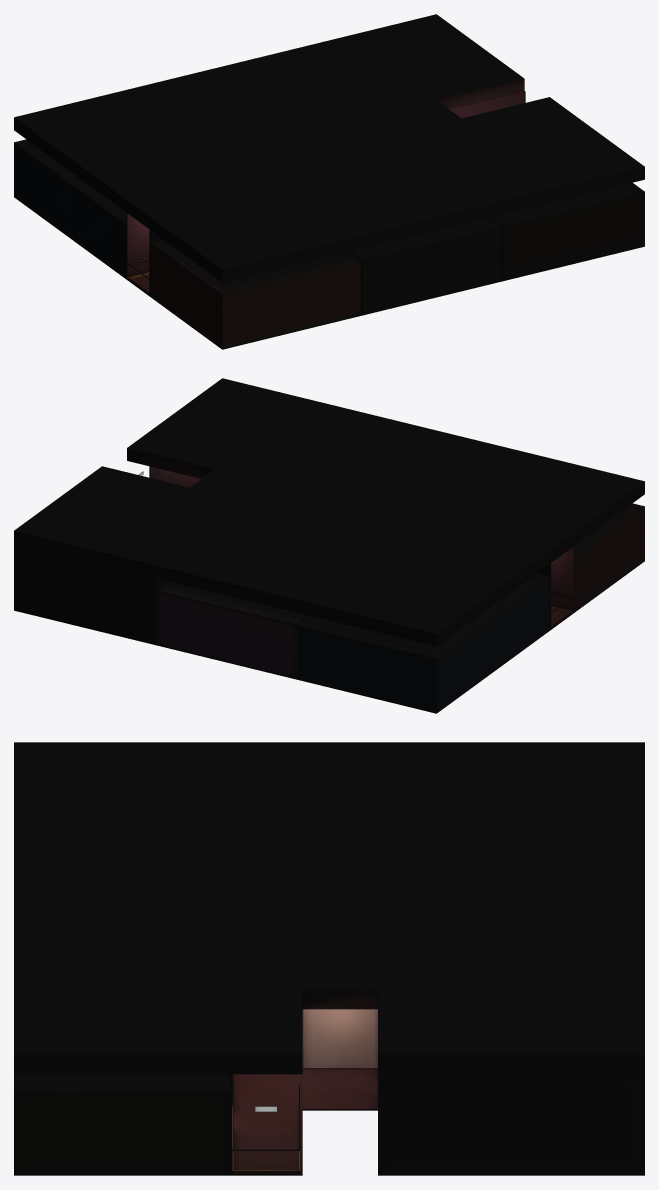
File: rouge_xl_f3.glb
3 renders of one model, top to bottom at view 1: azimuth 30°, elevation 25°; view 2: azimuth 150°, elevation 25°; view 3: azimuth 270°, elevation 25°, orthographic. The views are drawn at different scales.
Visible parts, largest first — view 1: office_kopo201; view 2: office_kopo201; view 3: office_kopo201.
Part boxes in pixels (box(x1,y1,x2,y2)): office_kopo201: box(14, 14, 644, 349); office_kopo201: box(14, 378, 644, 713); office_kopo201: box(14, 742, 644, 1175).
Bounding box in the file's own units: 27.5 × 4.95 × 23.4.
1 material, 1 textured.
